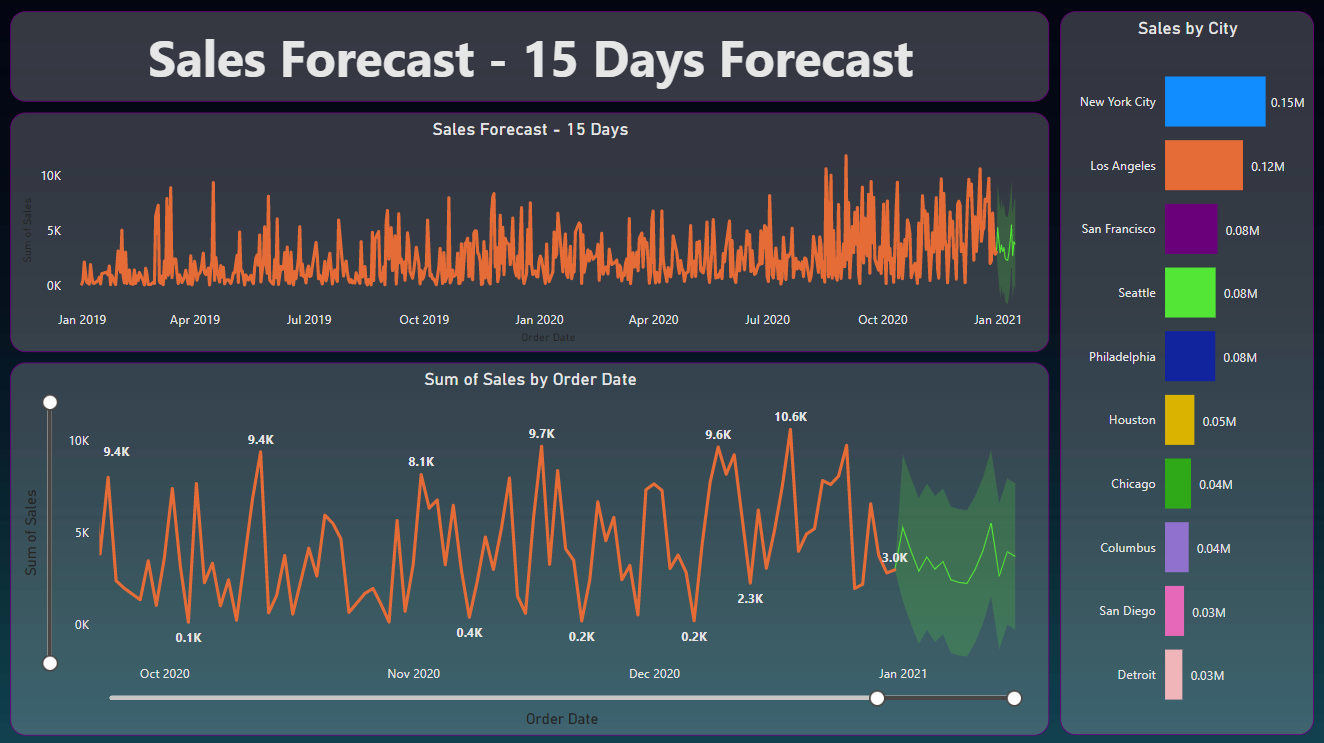

The dashboard page shown, as its layout file describes it:
{"tool":"powerbi","page":{"name":"Page 2","canvas":[1280,720],"ordinal":1},"visuals":[{"type":"lineChart","title":"Sales Forecast - 15 Days","fields":{"Y":["Sum(SuperStore_Sales_Dataset.Sales)"],"Category":["SuperStore_Sales_Dataset.Order Date"]},"box":[11.2,108.8,1002.5,231.2],"z":0},{"type":"lineChart","fields":{"Y":["Sum(SuperStore_Sales_Dataset.Sales)"],"Category":["SuperStore_Sales_Dataset.Order Date"]},"box":[11.2,350,1002.5,360],"z":1},{"type":"clusteredBarChart","title":"Sales by City","fields":{"Y":["Sum(SuperStore_Sales_Dataset.Sales)"],"Category":["SuperStore_Sales_Dataset.City"]},"box":[1023.8,11.2,245,698.8],"z":2},{"type":"textbox","box":[11.2,11.2,1002.5,87.5],"z":3}]}

Visuals, with their boxes in screenshot pixels (x1, y1, x2, y2), scaled from the page's 1280x720 canvas onto the 1324x743 screenshot:
"Sales Forecast - 15 Days" lineChart: [12,112,1049,351]
lineChart - Sum(SuperStore_Sales_Dataset.Sales) x SuperStore_Sales_Dataset.Order Date: [12,361,1049,733]
"Sales by City" clusteredBarChart: [1059,12,1312,733]
textbox: [12,12,1049,102]
